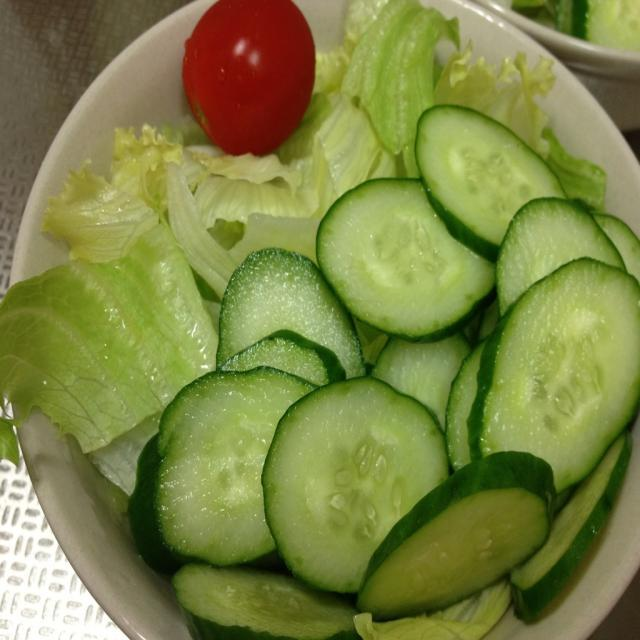Cucumber: (126, 106, 640, 640), (261, 372, 450, 596)
